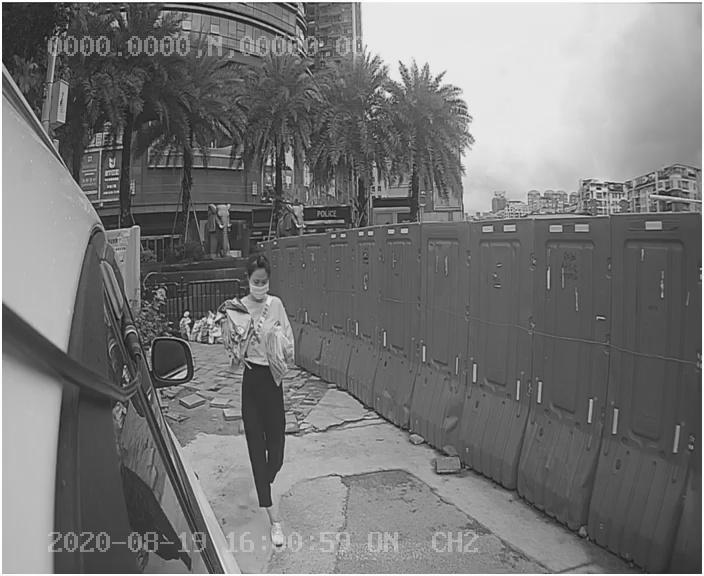person: (213, 250, 317, 527)
